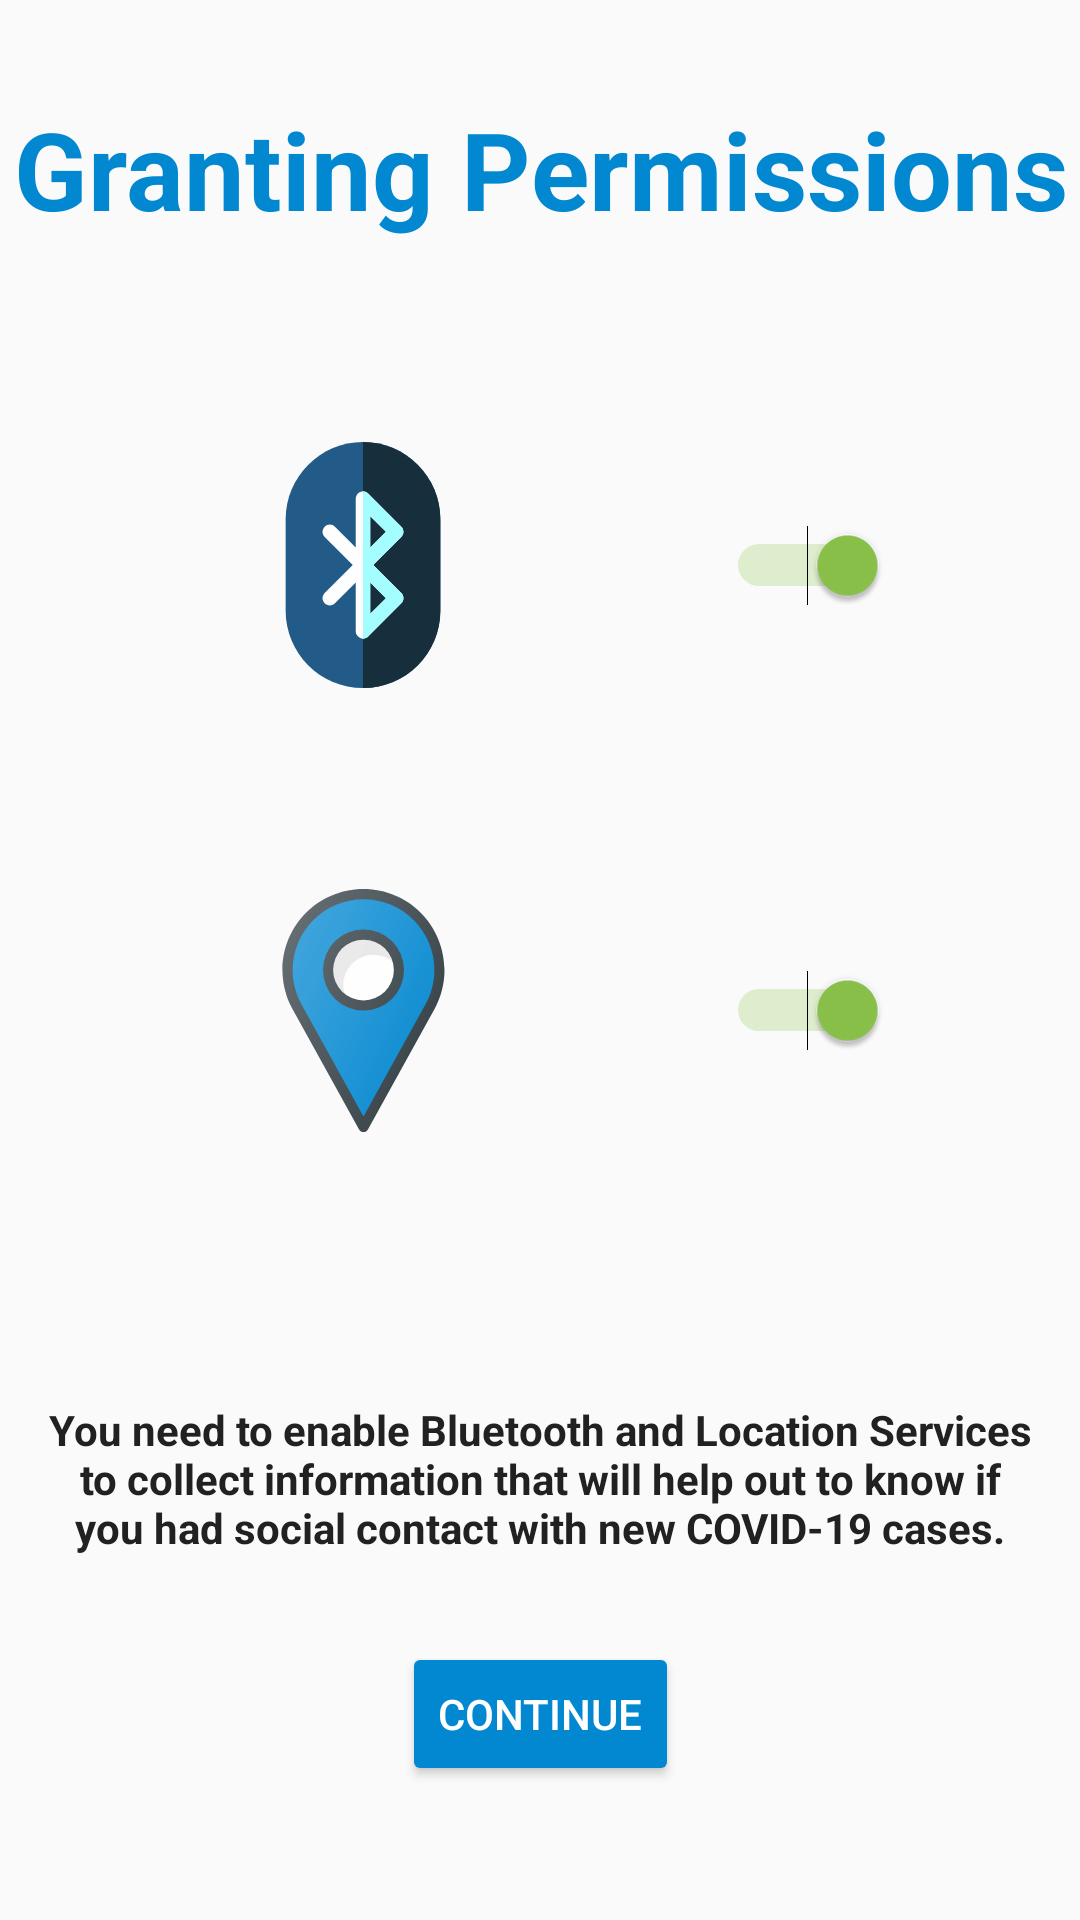

Icons on this 1080×1920 Android screen, each with its box as (x1, y1, x2, y2):
location: (282, 889, 445, 1132)
